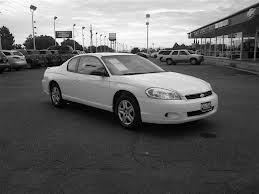car: (38, 50, 221, 138)
